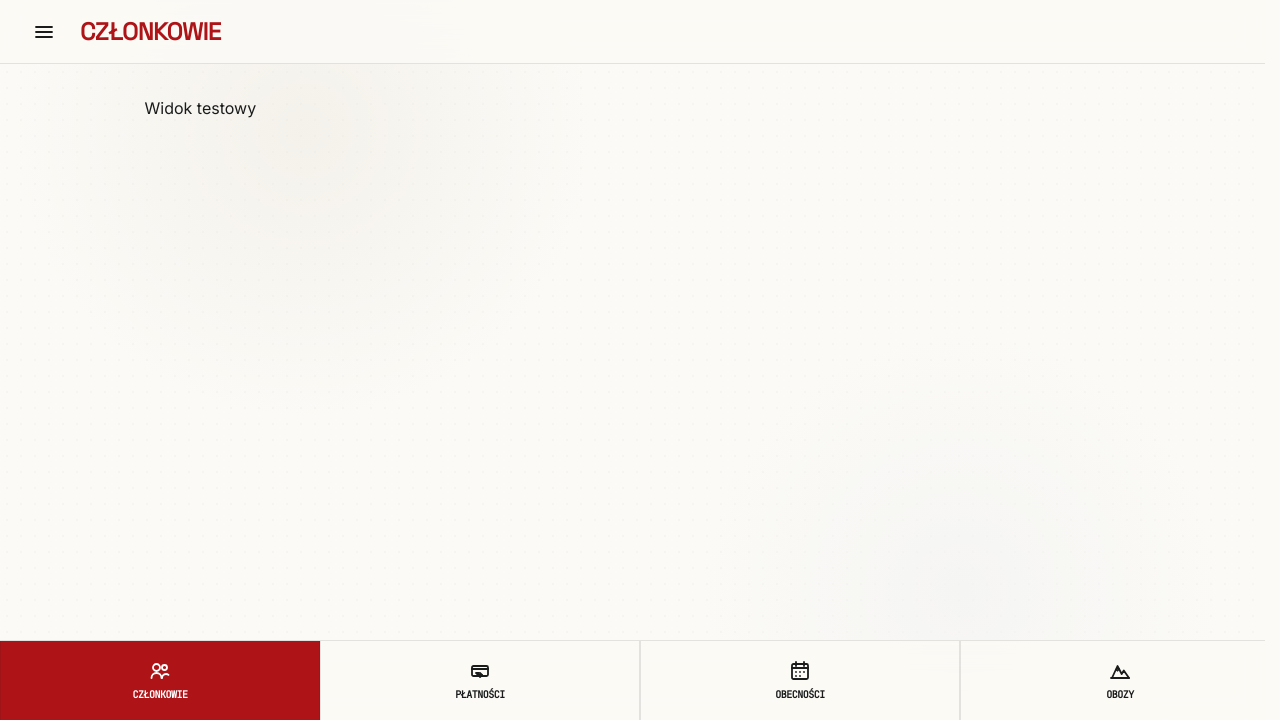
Test: AppShell › shows technical backup-export details when the workflow throws a browser error
Click the button with test id "shell-menu-button".
click(44, 32)  # box [24, 12, 64, 52]
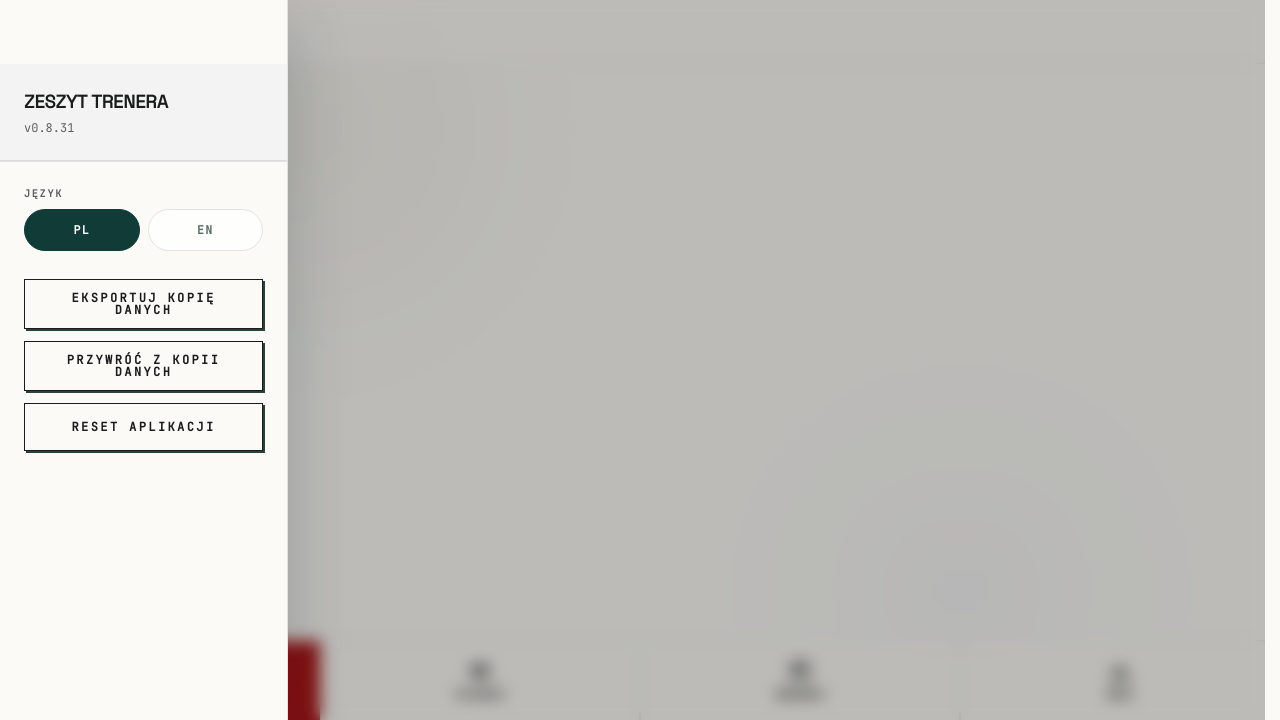
Click the button with test id "export-backup-button".
click(144, 304)  # box [24, 279, 263, 329]
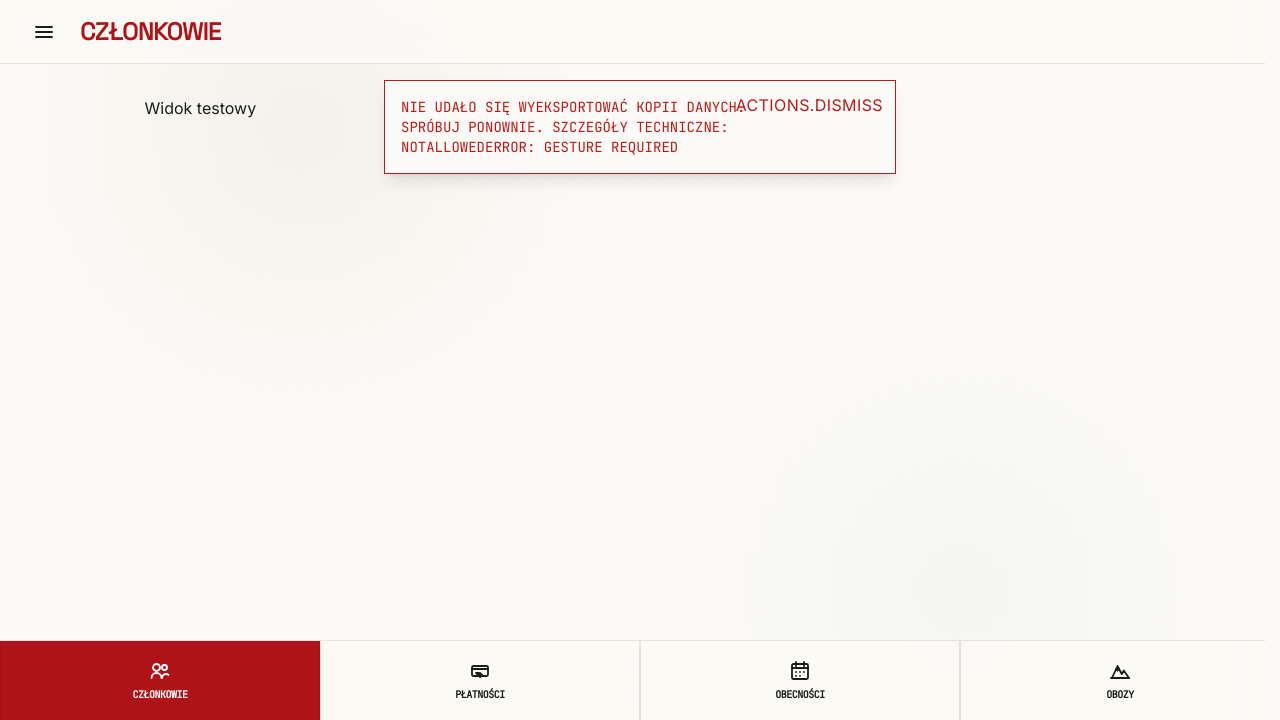
Now the text "Szczegóły techniczne: NotAllowedError: Gesture required" is shown, box [401, 98, 745, 156]
